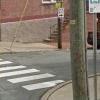Crosswalk: (4, 55, 68, 100)
